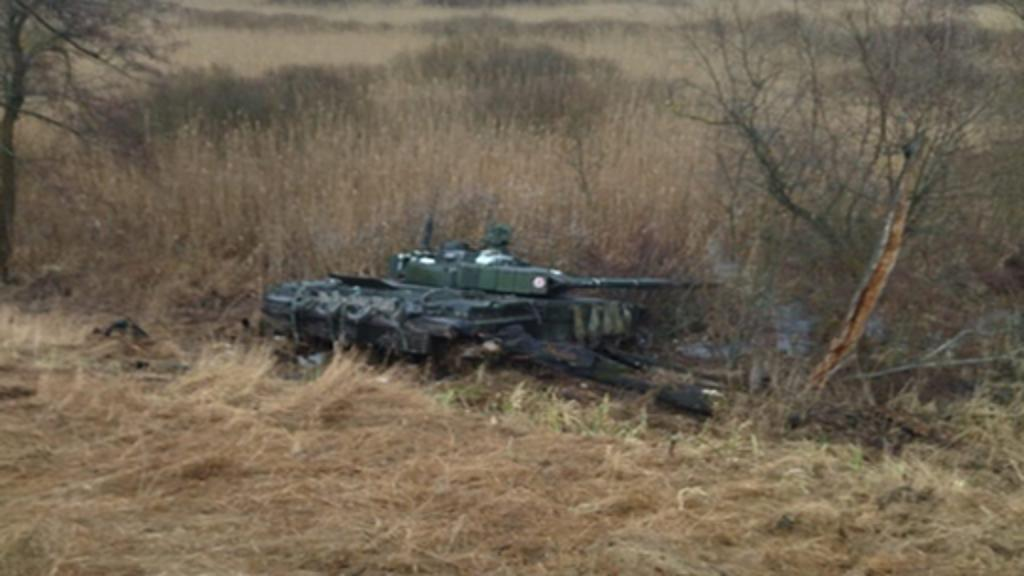TANK: (256, 236, 718, 396)
